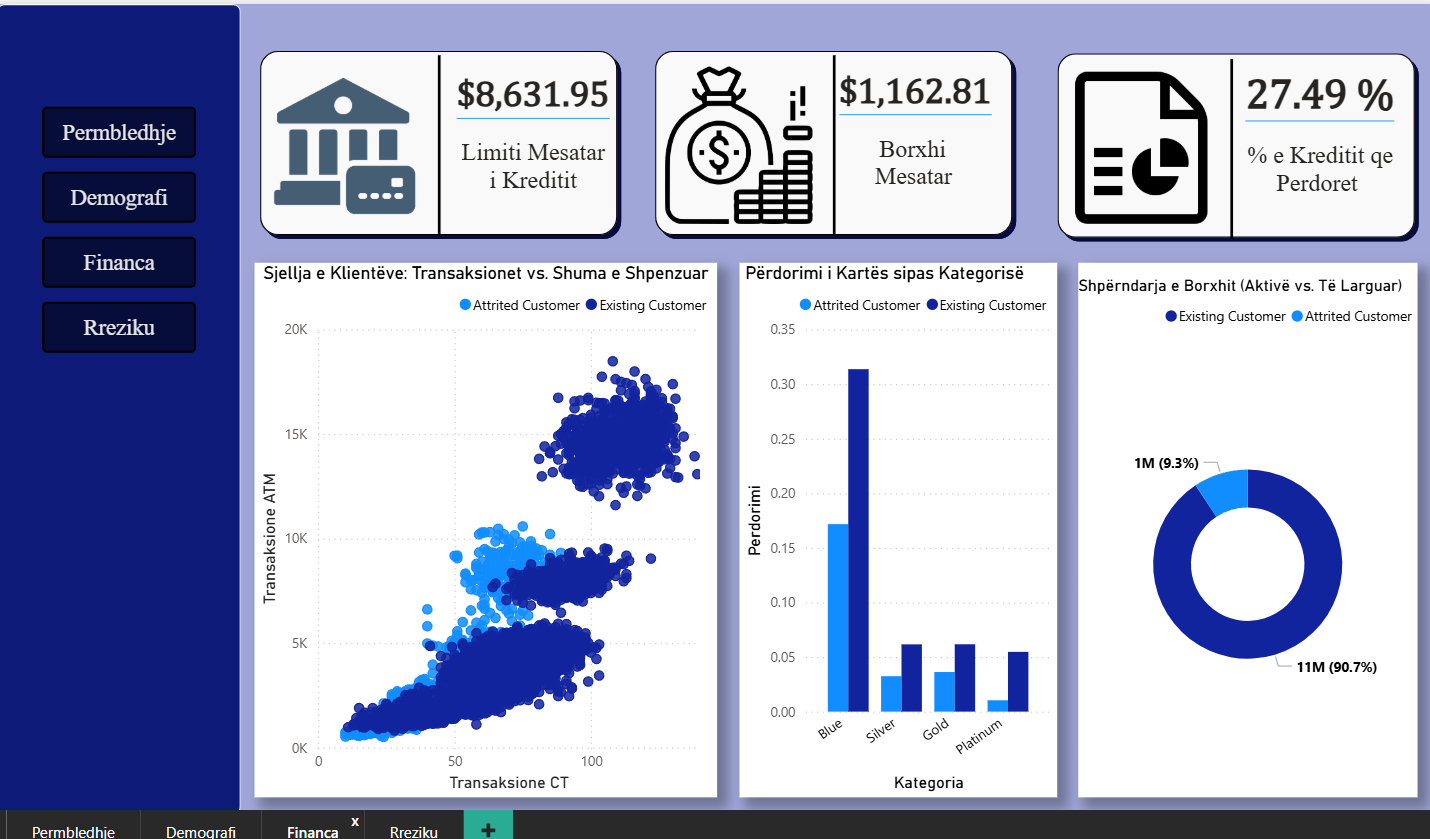

The page's visual inventory and layout, read from the dashboard file:
{"tool":"powerbi","page":{"name":"Financa","canvas":[1280,720],"ordinal":2},"visuals":[{"type":"group","id":"g1","title":"Group 1","box":[0,0,215.7,720],"z":0},{"type":"shape","box":[0,0,216.7,720.2],"z":0,"group":"g1"},{"type":"group","id":"g2","title":"Group 3","box":[228.8,36.2,327.5,173.8],"z":0,"group":"g6"},{"type":"group","id":"g3","title":"Group 2","box":[228.8,36.2,327.5,173.8],"z":0,"group":"g2"},{"type":"shape","box":[228.8,36.2,327.5,173.8],"z":0,"group":"g3"},{"type":"group","id":"g4","title":"Group 2","box":[580.4,36.2,327.5,173.8],"z":0,"group":"g7"},{"type":"shape","box":[580.4,36.2,327.5,173.8],"z":0,"group":"g4"},{"type":"group","id":"g5","title":"Group 2","box":[937.6,38.7,327.5,173.8],"z":0,"group":"g8"},{"type":"shape","box":[937.6,38.7,327.5,173.8],"z":0,"group":"g5"},{"type":"group","id":"g6","title":"Group 4","box":[228.8,36.2,1036.2,176.2],"z":1000},{"type":"group","id":"g7","title":"Group 3","box":[580.4,36.2,327.5,173.8],"z":1000,"group":"g6"},{"type":"shape","box":[288.3,45,208.4,160],"z":1000,"group":"g2"},{"type":"shape","box":[639.9,45,208.4,160],"z":1000,"group":"g7"},{"type":"shape","box":[993.6,48.4,208.4,160],"z":1000,"group":"g8"},{"type":"image","box":[240.8,55.3,134.7,140],"z":1000,"group":"g3"},{"type":"image","box":[592.4,55.3,134.7,140],"z":1000,"group":"g4"},{"type":"image","box":[949.6,57.8,134.7,140],"z":1000,"group":"g5"},{"type":"actionButton","box":[40.3,91.4,137.1,45.7],"z":1000,"group":"g1"},{"type":"group","id":"g8","title":"Group 3","box":[937.6,38.7,327.5,173.8],"z":2000,"group":"g6"},{"type":"textbox","box":[396.2,58.8,160,137.5],"z":2000},{"type":"actionButton","box":[40.3,148.6,137.1,45.7],"z":2000,"group":"g1"},{"type":"textbox","box":[743.8,55,146.2,145],"z":3000},{"type":"actionButton","box":[40.3,207.1,137.1,45.7],"z":3000,"group":"g1"},{"type":"textbox","box":[1101.2,55,150,150],"z":4000},{"type":"actionButton","box":[40.3,264.3,137.1,45.7],"z":4000,"group":"g1"},{"type":"scatterChart","title":"Sjellja e Klientëve: Transaksionet vs. Shuma e Shpenzuar","fields":{"X":["Sum(BankChurners.Total_Trans_Ct)"],"Y":["Sum(BankChurners.Total_Trans_Amt)"],"Category":["BankChurners.CLIENTNUM"],"Series":["BankChurners.Attrition_Flag"]},"box":[228.8,230,411.2,475],"z":5000},{"type":"clusteredColumnChart","title":"Përdorimi i Kartës sipas Kategorisë","fields":{"Category":["BankChurners.Card_Category"],"Y":["BankChurners.Perdorimi Mesatar"],"Series":["BankChurners.Attrition_Flag"]},"box":[660,230,282.5,475],"z":6000},{"type":"donutChart","title":"Shpërndarja e Borxhit (Aktivë vs. Të Larguar)","fields":{"Category":["BankChurners.Attrition_Flag"],"Y":["Sum(BankChurners.Total_Revolving_Bal)"]},"box":[961,230,301.2,475],"z":7000}]}

Visuals, with their boxes on the page's 1280x720 design canvas (x1, y1, x2, y2). These are canvas units, not pixel positions in the 1430x839 screenshot, which may show the page scaled, cropped or inside an application window:
"Group 1" group: left=0, top=0, right=216, bottom=720
shape: left=0, top=0, right=217, bottom=720
"Group 3" group: left=229, top=36, right=556, bottom=210
"Group 2" group: left=229, top=36, right=556, bottom=210
shape: left=229, top=36, right=556, bottom=210
"Group 2" group: left=580, top=36, right=908, bottom=210
shape: left=580, top=36, right=908, bottom=210
"Group 2" group: left=938, top=39, right=1265, bottom=212
shape: left=938, top=39, right=1265, bottom=212
"Group 4" group: left=229, top=36, right=1265, bottom=212
"Group 3" group: left=580, top=36, right=908, bottom=210
shape: left=288, top=45, right=497, bottom=205
shape: left=640, top=45, right=848, bottom=205
shape: left=994, top=48, right=1202, bottom=208
image: left=241, top=55, right=376, bottom=195
image: left=592, top=55, right=727, bottom=195
image: left=950, top=58, right=1084, bottom=198
actionButton: left=40, top=91, right=177, bottom=137
"Group 3" group: left=938, top=39, right=1265, bottom=212
textbox: left=396, top=59, right=556, bottom=196
actionButton: left=40, top=149, right=177, bottom=194
textbox: left=744, top=55, right=890, bottom=200
actionButton: left=40, top=207, right=177, bottom=253
textbox: left=1101, top=55, right=1251, bottom=205
actionButton: left=40, top=264, right=177, bottom=310
"Sjellja e Klientëve: Transaksionet vs. Shuma e Shpenzuar" scatterChart: left=229, top=230, right=640, bottom=705
"Përdorimi i Kartës sipas Kategorisë" clusteredColumnChart: left=660, top=230, right=942, bottom=705
"Shpërndarja e Borxhit (Aktivë vs. Të Larguar)" donutChart: left=961, top=230, right=1262, bottom=705
